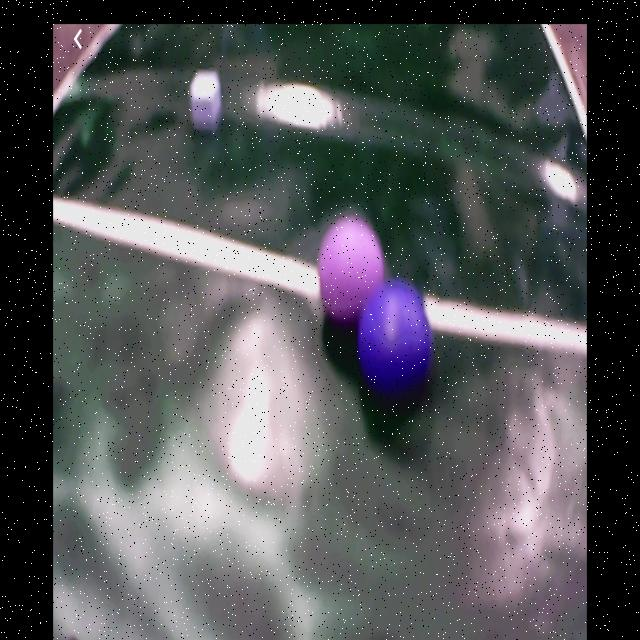ball: (319, 214, 387, 324), (360, 280, 431, 382)
